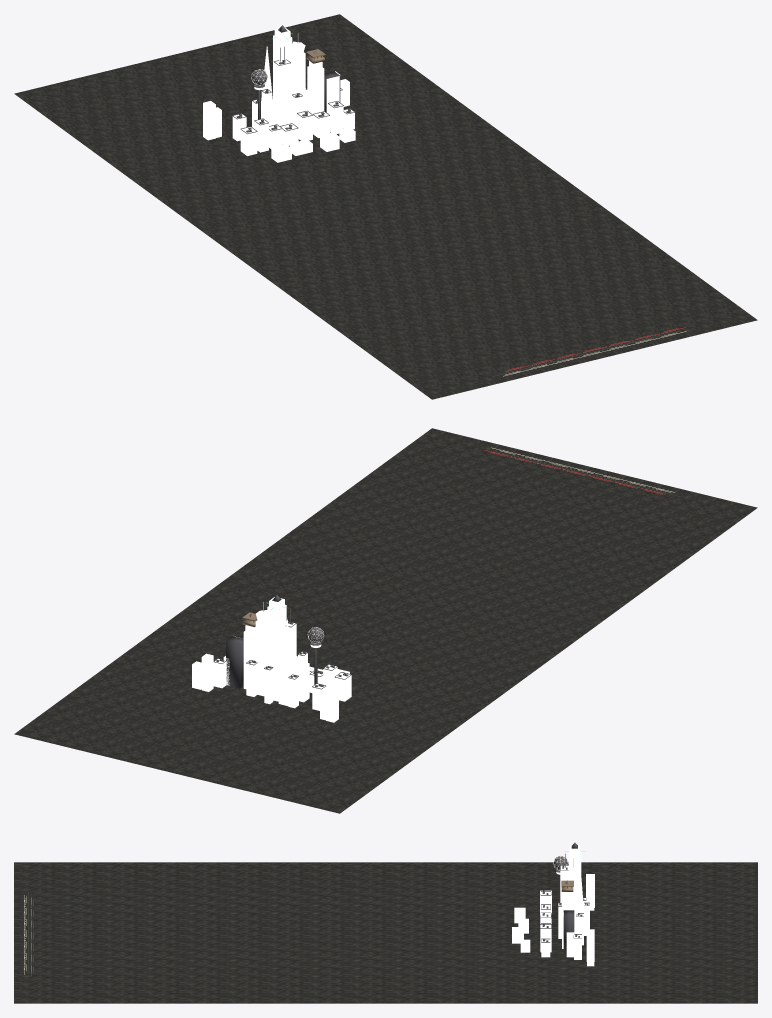
The model's file is skyline.glb.
The picture shows the model from 3 angles, top to bottom: view 1: azimuth 30°, elevation 25°; view 2: azimuth 150°, elevation 25°; view 3: azimuth 270°, elevation 25°; orthographic projection. The views are drawn at different scales.
Visible parts, largest first — view 1: SkyGround, Highway, RenLike, ComericaLike_A; view 2: SkyGround, BOA_Plaza, Highway, OmniBody, ChaseLike, FountainPlace; view 3: SkyGround, Highway, BOA_Plaza, OmniBody.
Boxes of the visible parts, box(x1,y1,x2,y2) form: SkyGround: box(14, 14, 757, 399); Highway: box(489, 328, 683, 378); RenLike: box(273, 60, 290, 125); ComericaLike_A: box(307, 66, 324, 114); SkyGround: box(14, 428, 757, 813); BOA_Plaza: box(267, 605, 286, 701); Highway: box(489, 448, 683, 499); OmniBody: box(226, 636, 243, 688); ChaseLike: box(255, 620, 267, 696); FountainPlace: box(278, 619, 293, 705); SkyGround: box(14, 862, 757, 1003); Highway: box(23, 892, 34, 973); BOA_Plaza: box(568, 850, 581, 912); OmniBody: box(563, 910, 574, 956).
Size of what is drawn, in the model's own units: 900 by 273 by 2000.
32 materials, 2 textured.
